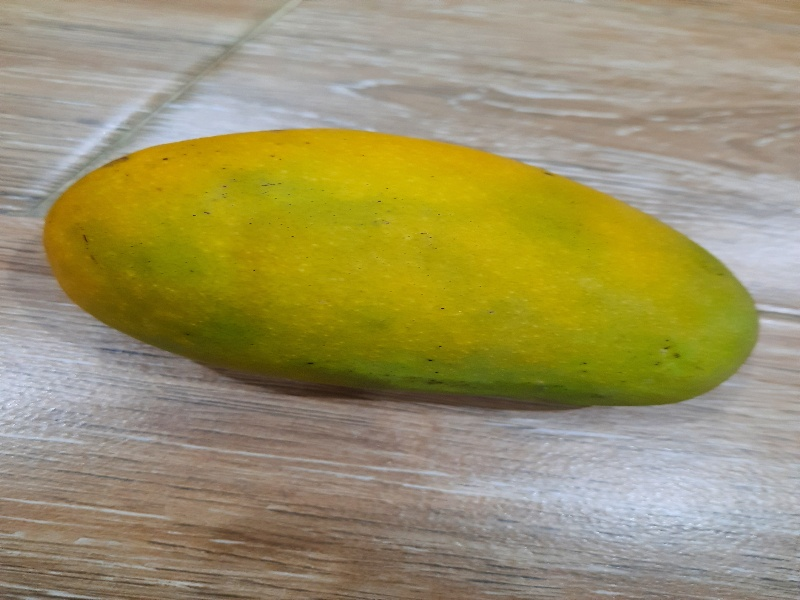fruit: (39, 126, 760, 411)
